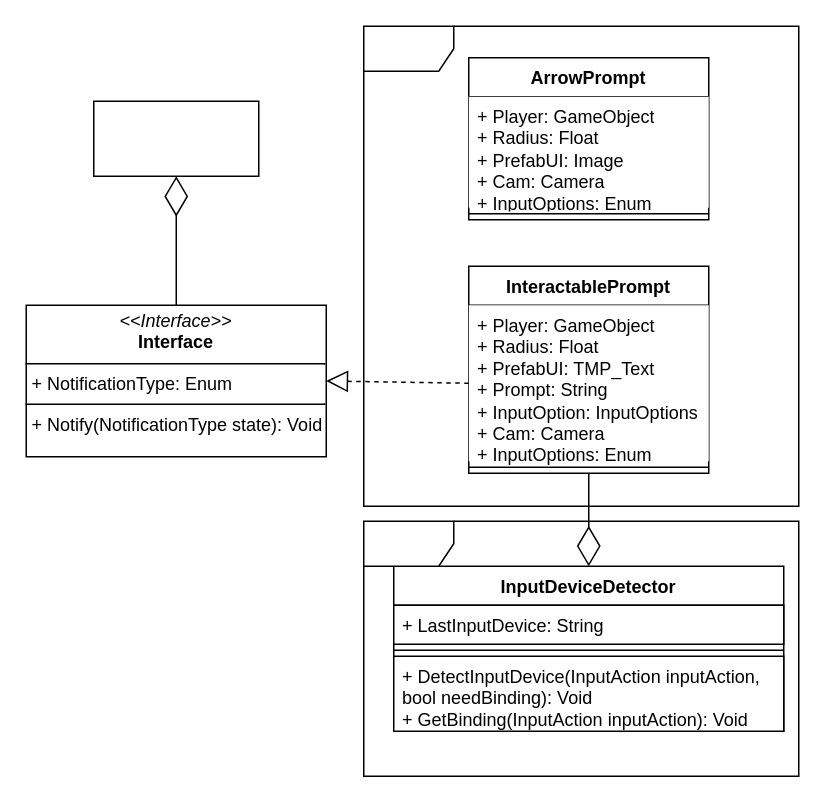
This 825x803 diagram has some shape labels left out. The shapes that lost their labels are listed below. From the top down, each one's centre as x and y in pixels, then its label:
At point (175, 138): "GameManager".
At point (580, 265): "PrompObject".
At point (580, 648): "Player".
